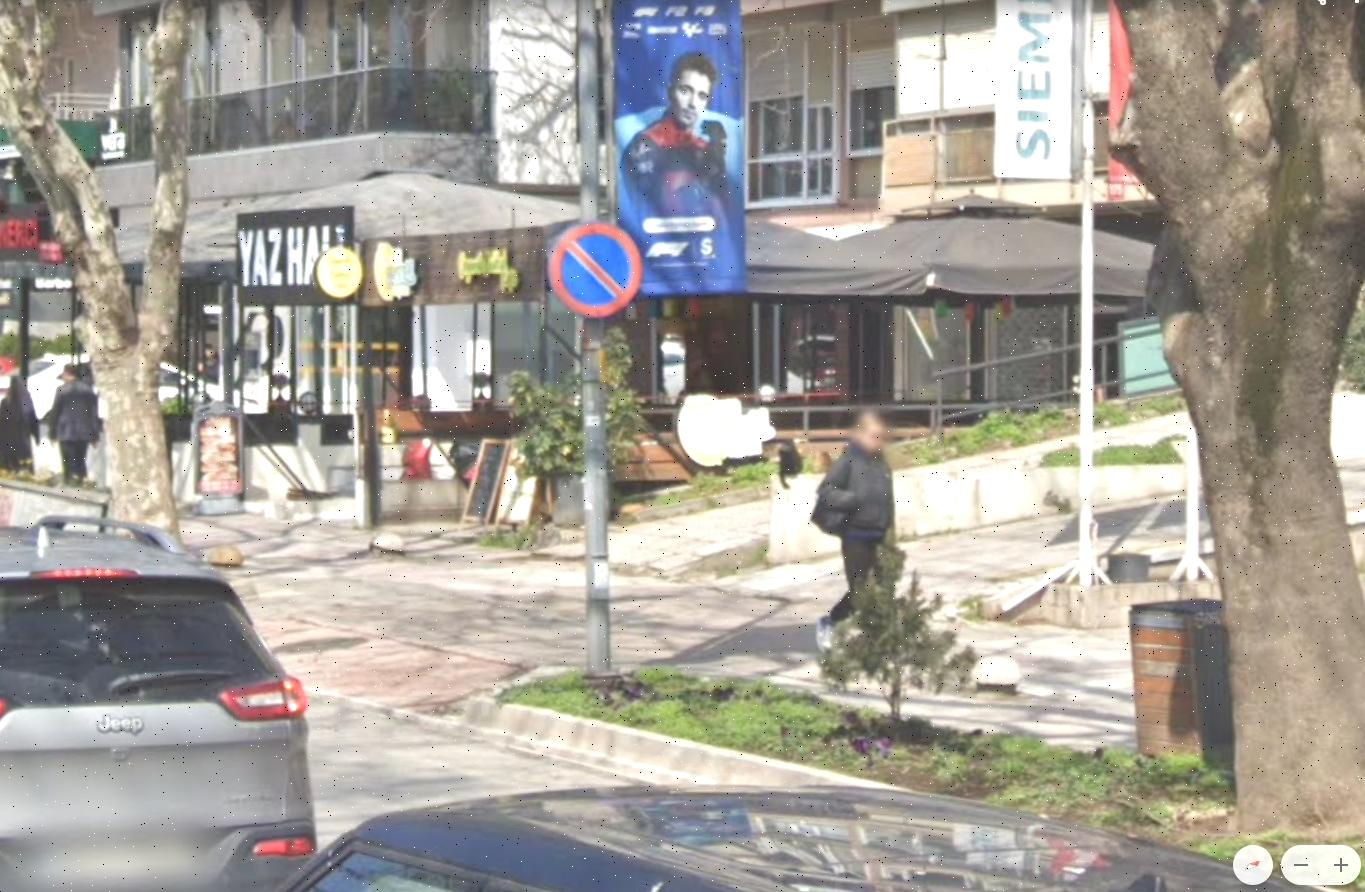nopark: (553, 230, 638, 317)
